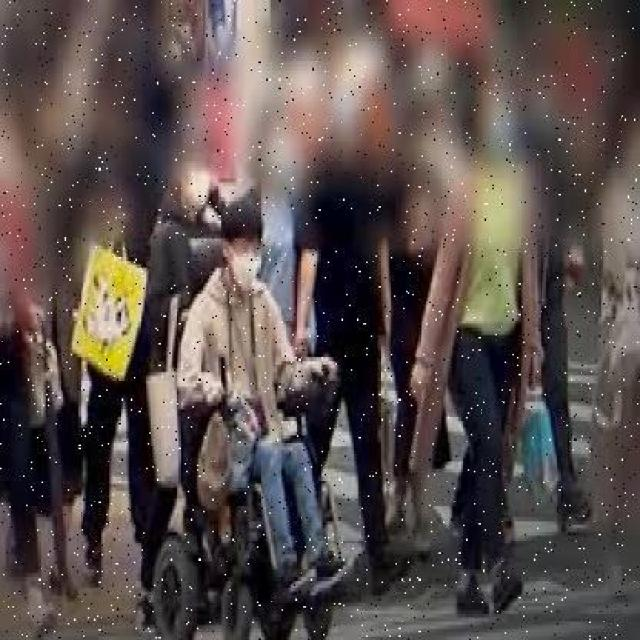Person: (152, 201, 352, 636)
